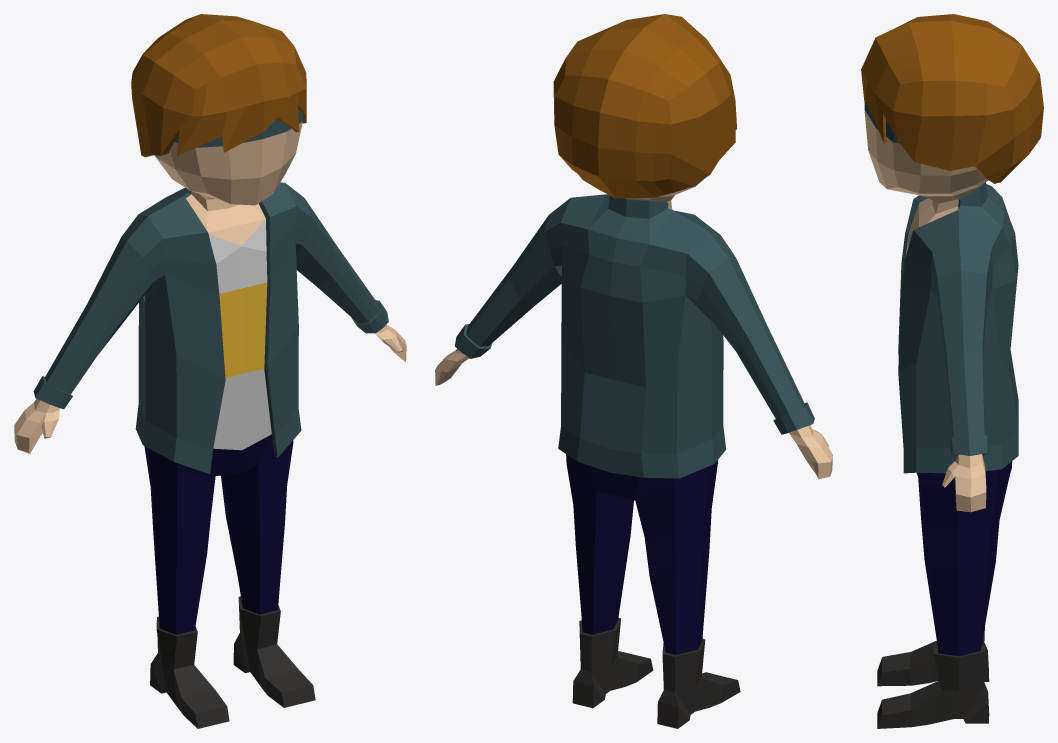
File: boy.darkclothes.fbx
The picture shows the model from 3 angles, left to right: view 1: azimuth 30°, elevation 25°; view 2: azimuth 150°, elevation 25°; view 3: azimuth 270°, elevation 25°; orthographic projection.
Visible parts, largest first — view 1: Cube.001, Cube.002; view 2: Cube.001, Cube.002; view 3: Cube.001, Cube.002.
Part boxes in pixels (bbox=[...]): Cube.001: bbox=[14, 122, 406, 728]; Cube.002: bbox=[131, 14, 306, 157]; Cube.001: bbox=[435, 179, 832, 728]; Cube.002: bbox=[553, 14, 736, 198]; Cube.001: bbox=[864, 110, 1018, 728]; Cube.002: bbox=[861, 14, 1043, 183].
Bounding box in the file's own units: 656 × 1077 × 263.
